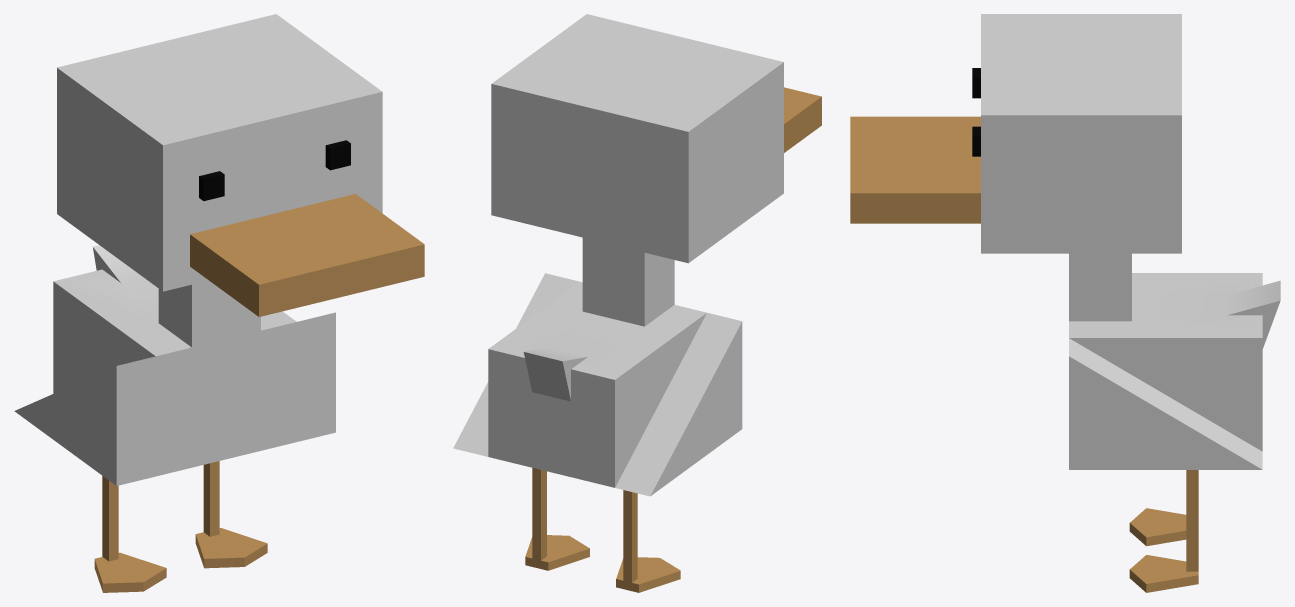
Rendered from duck.fbx.
3 renders of one model, left to right at view 1: azimuth 30°, elevation 25°; view 2: azimuth 150°, elevation 25°; view 3: azimuth 270°, elevation 25°, orthographic. The views are drawn at different scales.
Parts seen in each view (by area): view 1: polySurface1, polySurface4, polySurface2, pCube6, pCube5; view 2: polySurface1, polySurface2, polySurface4; view 3: polySurface1, polySurface4, polySurface2.
Boxes of the visible parts, x1,y1,x2,y2 form: polySurface1: [14, 14, 382, 485]; polySurface4: [190, 194, 424, 316]; polySurface2: [94, 461, 267, 592]; pCube6: [199, 171, 224, 200]; pCube5: [325, 140, 350, 170]; polySurface1: [453, 14, 783, 496]; polySurface2: [525, 468, 680, 592]; polySurface4: [784, 87, 821, 152]; polySurface1: [981, 14, 1280, 469]; polySurface4: [850, 116, 980, 223]; polySurface2: [1129, 470, 1198, 592].
Size of the model in its own units: 1.32 by 2.99 by 2.38.
